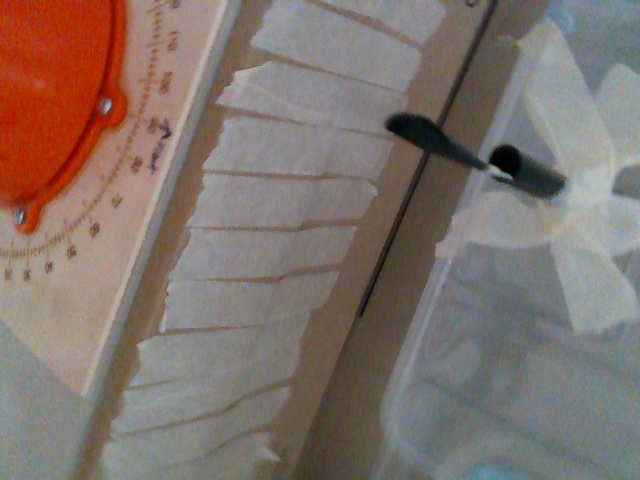test_strip: (378, 110, 513, 182)
